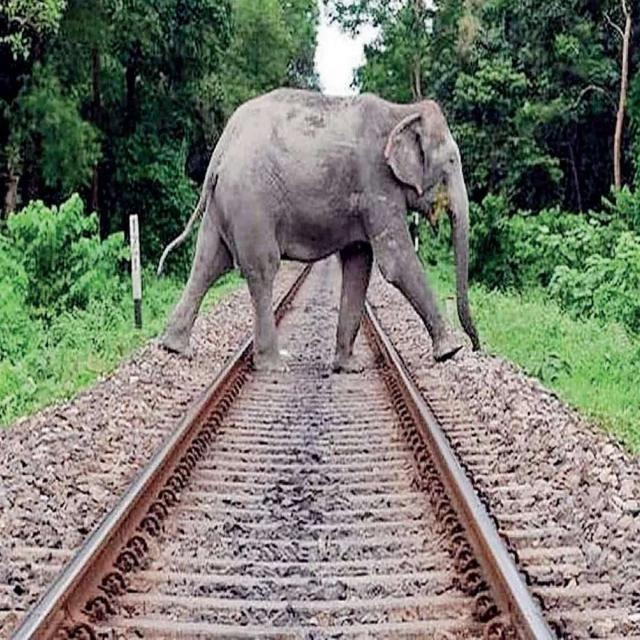Elephant: (160, 77, 492, 377)
